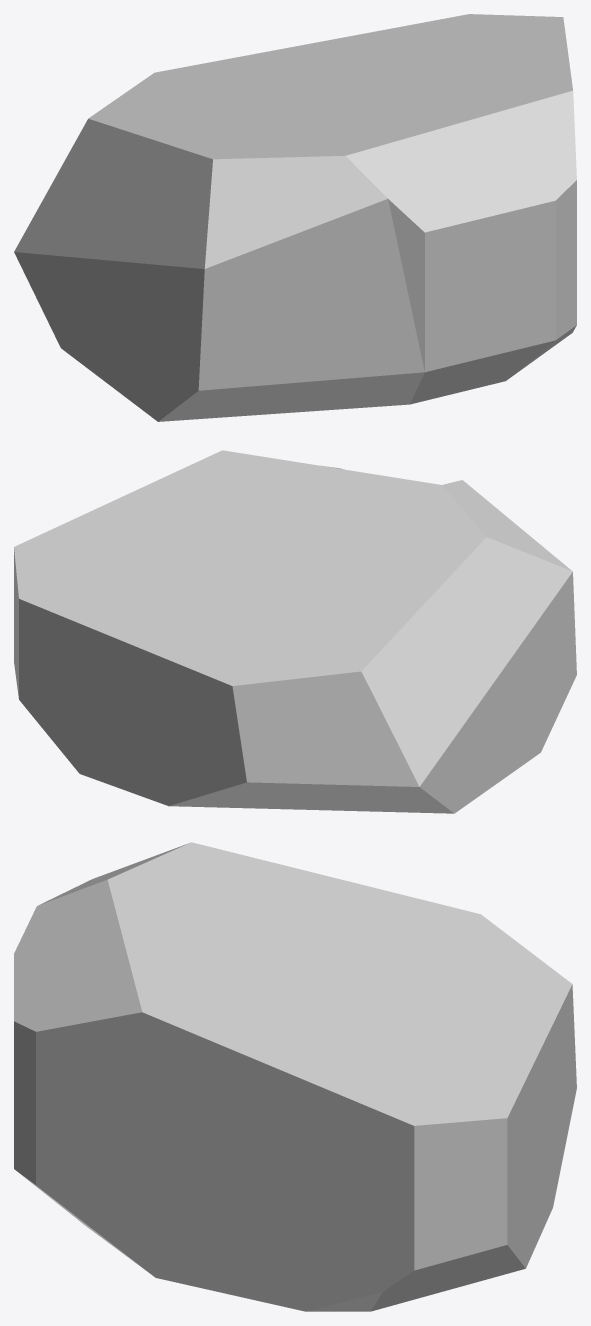
File: rock_03.fbx
The picture shows the model from 3 angles, top to bottom: view 1: azimuth 30°, elevation 25°; view 2: azimuth 150°, elevation 25°; view 3: azimuth 270°, elevation 25°; orthographic projection. The views are drawn at different scales.
Visible parts, largest first — view 1: Rock_03; view 2: Rock_03; view 3: Rock_03.
Part boxes in pixels (<box>): Rock_03: <box>14,14,576,421</box>; Rock_03: <box>14,450,576,813</box>; Rock_03: <box>14,842,576,1311</box>.
Size of the model in its own units: 114 by 53.82 by 102.
